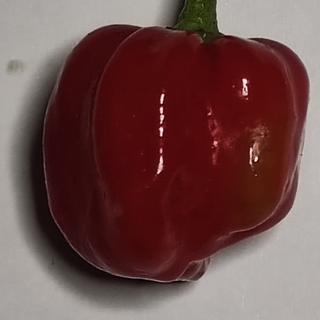Grade-B: (34, 17, 315, 286)
